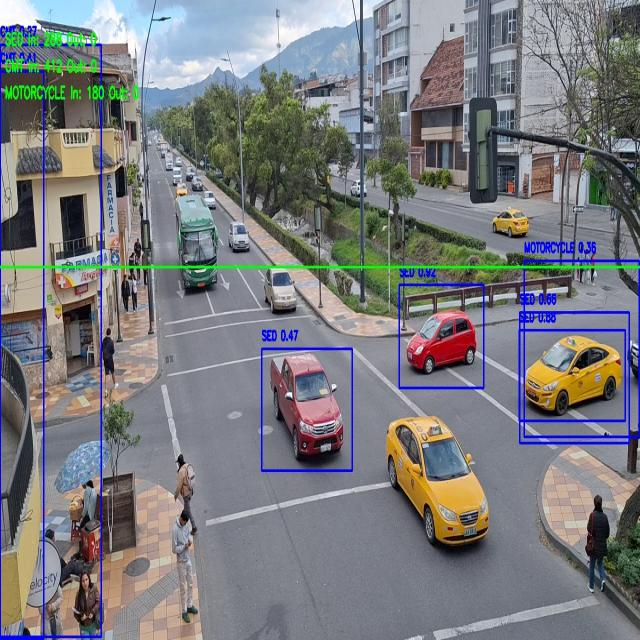BUS: (181, 217, 218, 288)
CMT: (272, 358, 341, 457)
SED: (391, 422, 486, 547), (525, 338, 620, 408), (407, 314, 475, 372), (266, 269, 296, 311), (492, 210, 526, 236), (231, 224, 249, 253)
